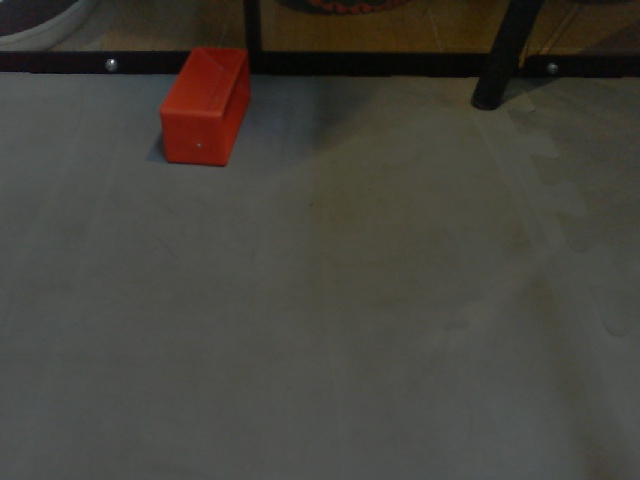RedSample: (157, 42, 252, 167)
